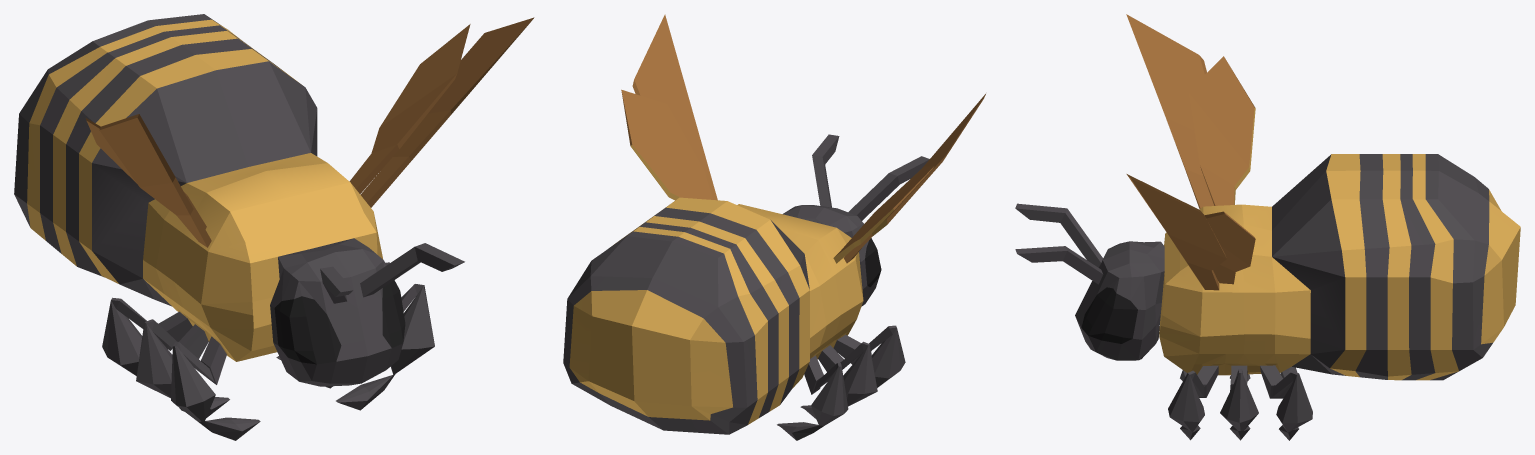
File: Bee_Friend.fbx
3 views of the same model, side by side, from view 1: azimuth 30°, elevation 25°; view 2: azimuth 150°, elevation 25°; view 3: azimuth 270°, elevation 25° (orthographic). The views are drawn at different scales.
Visible parts, largest first — view 1: Bee_Friend, Bee.wing.left, Bee.wing.right; view 2: Bee_Friend, Bee.wing.left, Bee.wing.right; view 3: Bee_Friend, Bee.wing.right, Bee.wing.left.
Boxes of the visible parts, x1=… form: Bee_Friend: x1=14, y1=14, x2=464, y2=440; Bee.wing.left: x1=349, y1=17, x2=534, y2=207; Bee.wing.right: x1=85, y1=114, x2=211, y2=247; Bee_Friend: x1=563, y1=134, x2=929, y2=440; Bee.wing.left: x1=621, y1=14, x2=717, y2=200; Bee.wing.right: x1=833, y1=94, x2=985, y2=263; Bee_Friend: x1=1015, y1=154, x2=1520, y2=440; Bee.wing.right: x1=1126, y1=14, x2=1255, y2=208; Bee.wing.left: x1=1126, y1=174, x2=1255, y2=290.
Bounding box in the file's own units: 20.76 × 19.52 × 27.8.
